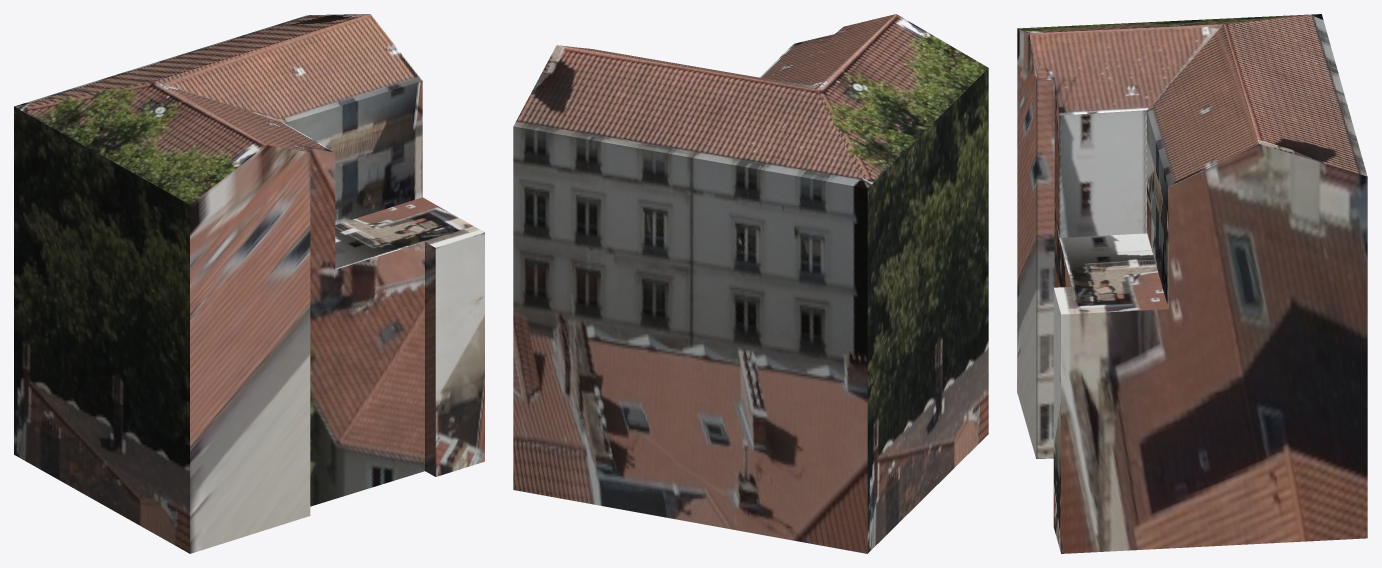
3 views of the same model, side by side, from view 1: azimuth 30°, elevation 25°; view 2: azimuth 150°, elevation 25°; view 3: azimuth 270°, elevation 25° (orthographic). The views are drawn at different scales.
Visible parts, largest first — view 1: Z_UP; view 2: Z_UP; view 3: Z_UP.
Boxes of the visible parts, left/top/right/bottom form: Z_UP: left=14, top=14, right=484, bottom=553; Z_UP: left=513, top=14, right=988, bottom=553; Z_UP: left=1017, top=14, right=1367, bottom=553.
Size of the model in its own units: 18.4 by 19.55 by 15.43.
2 materials, 1 textured.
